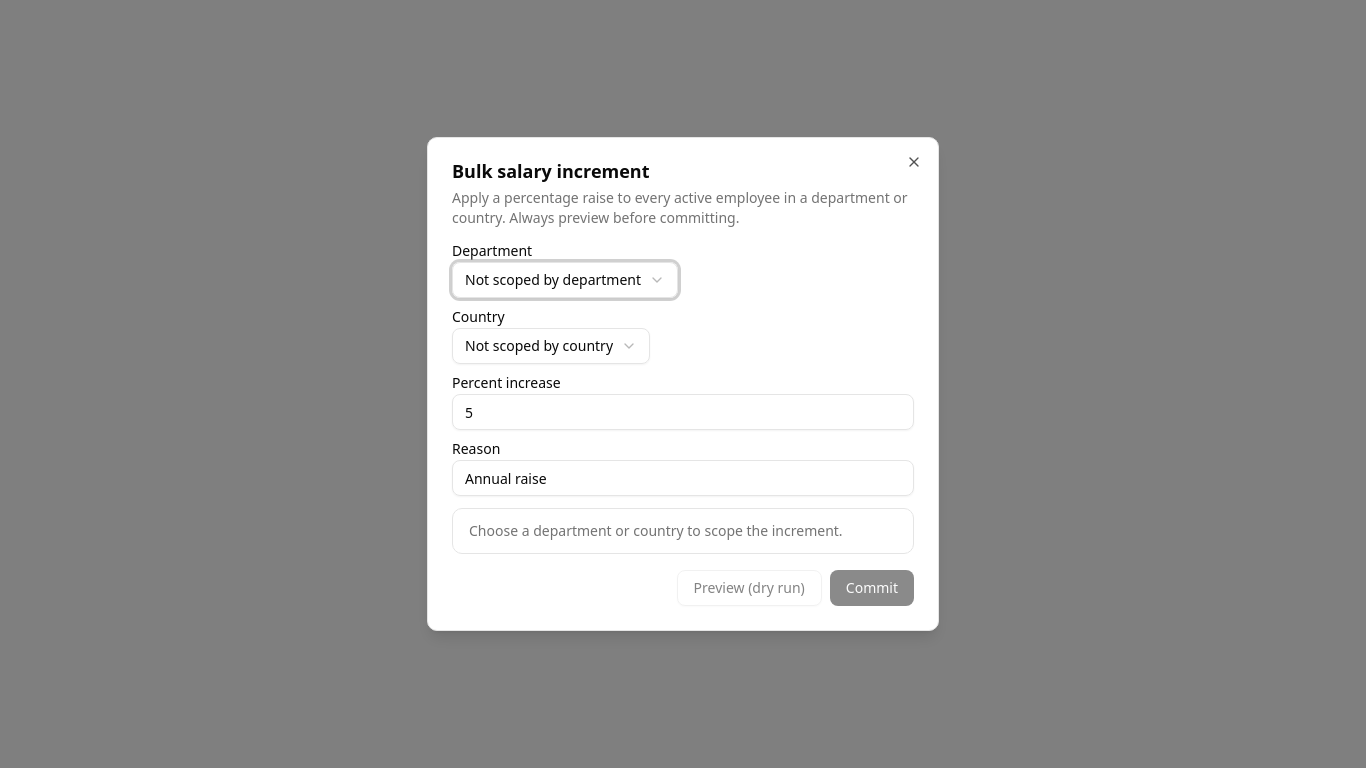
BulkIncrementDialog › runs a dry run and shows the preview without committing
This screenshot has width=1366, height=768.
Click the dropdown "Not scoped by department".
click(565, 280)  # box x1=452 y1=262 x2=678 y2=298
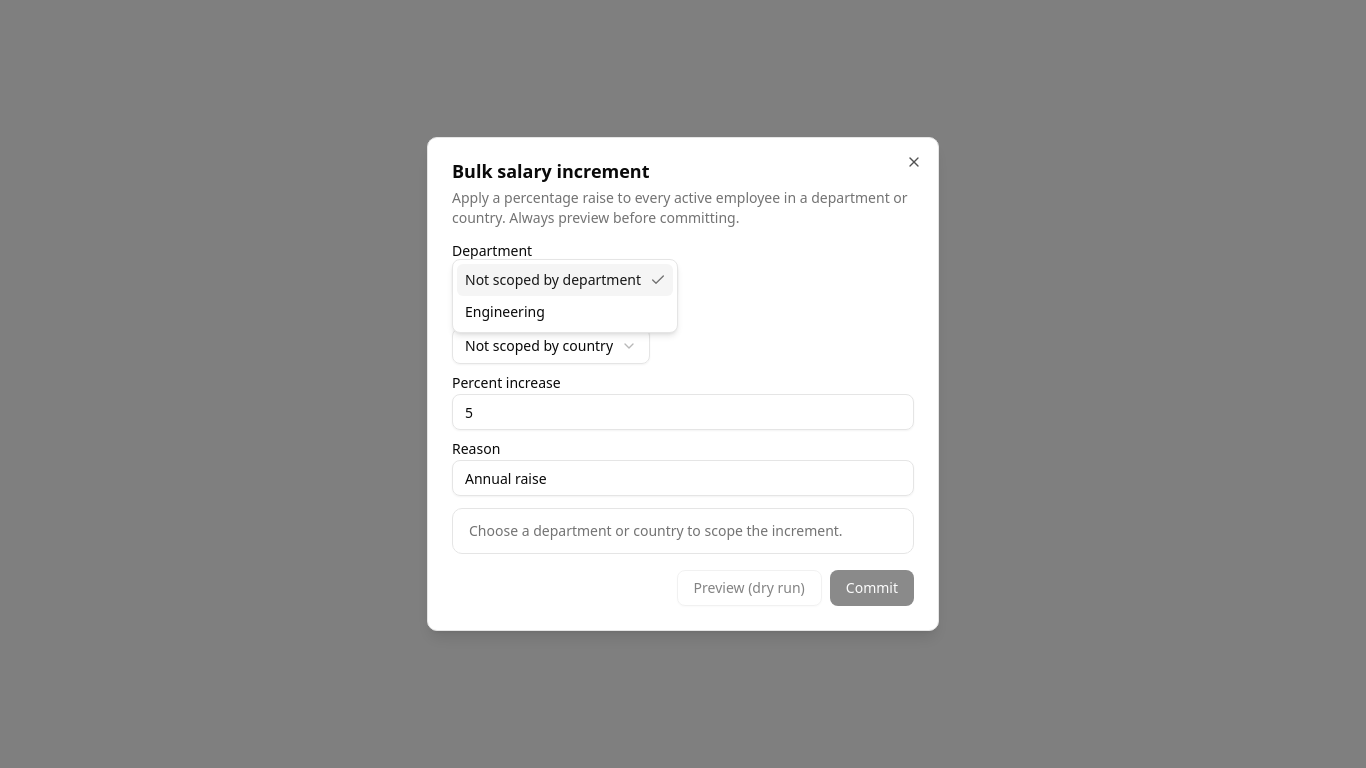
Click the option "Engineering".
click(505, 312)  # box x1=465 y1=302 x2=545 y2=321
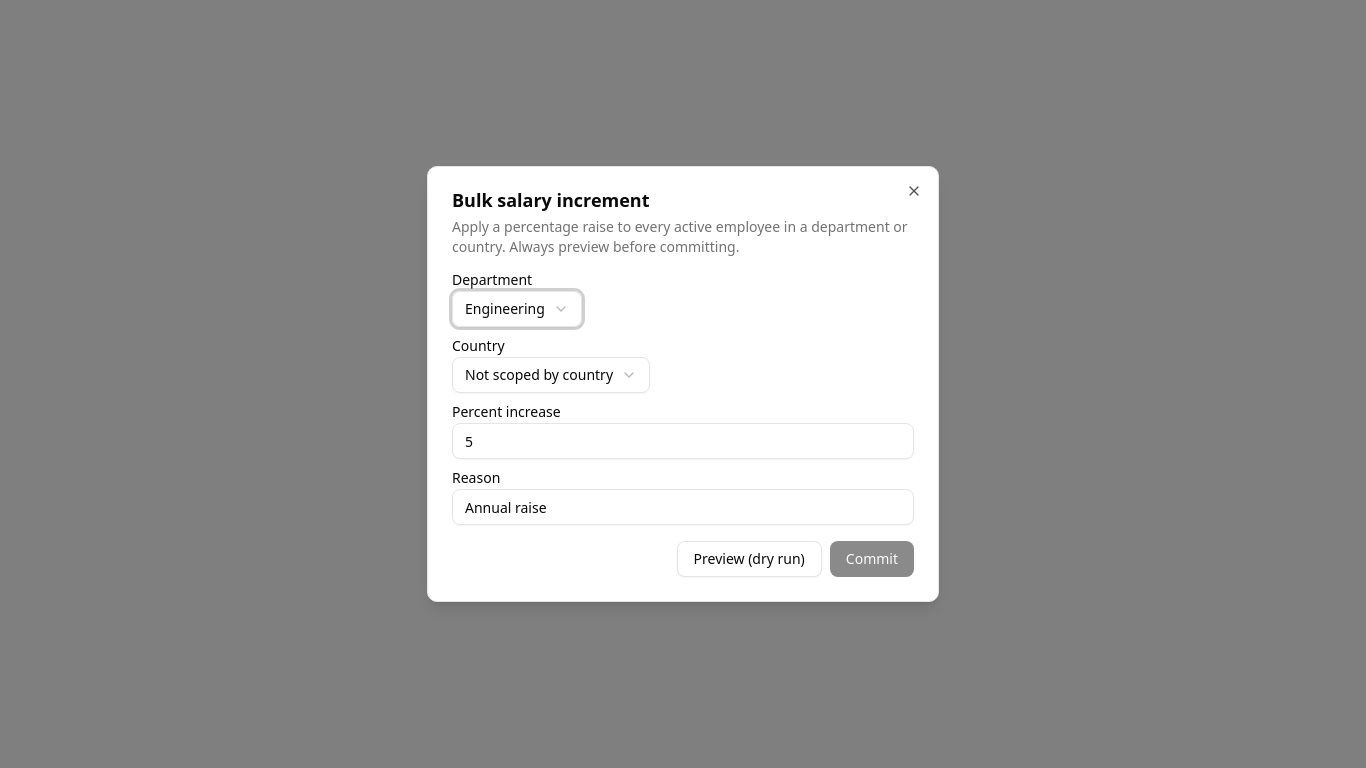
Click the button "Preview (dry run)".
click(749, 559)  # box x1=677 y1=541 x2=822 y2=577
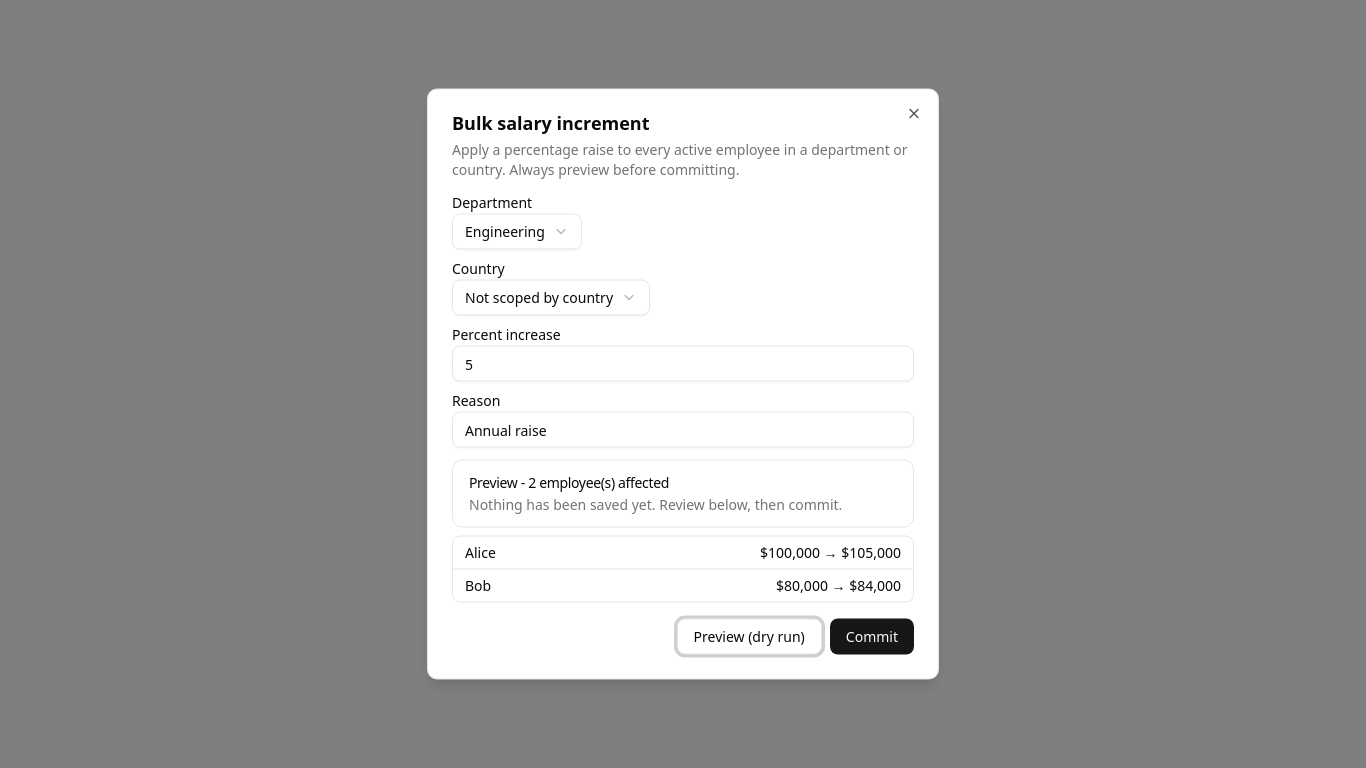
Check: the text "Preview - 2 employee(s) affected" is shown, box x1=469 y1=472 x2=669 y2=492
Check: the button "Commit" is enabled, box x1=830 y1=618 x2=914 y2=654
